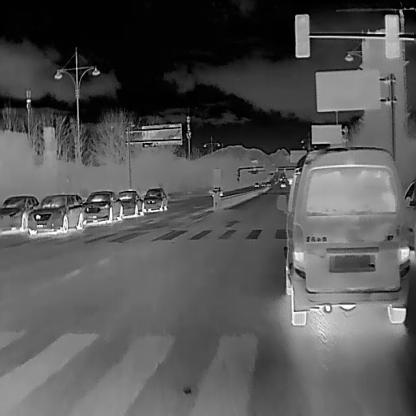car: (276, 141, 407, 326), (27, 192, 82, 230), (0, 192, 38, 233), (82, 189, 123, 221), (116, 188, 144, 217), (140, 185, 167, 211), (211, 186, 222, 196), (279, 180, 285, 187), (254, 180, 258, 186), (260, 180, 264, 186), (266, 180, 270, 186), (288, 177, 292, 183)
